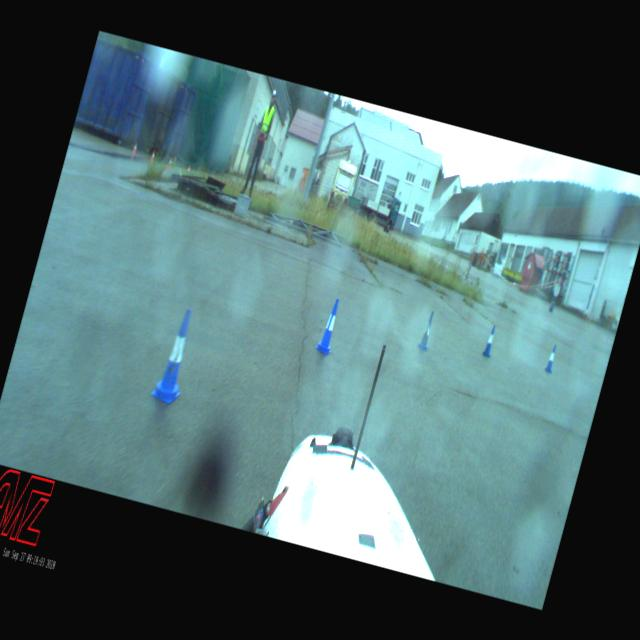blue_cone: (149, 304, 202, 407), (314, 296, 344, 356), (416, 309, 436, 352), (482, 324, 498, 358), (544, 343, 558, 373)
orange_cone: (131, 141, 138, 154), (149, 150, 156, 162), (166, 156, 173, 168), (186, 164, 192, 173)
